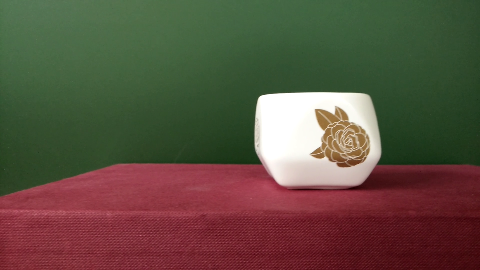flower: (302, 100, 372, 170)
